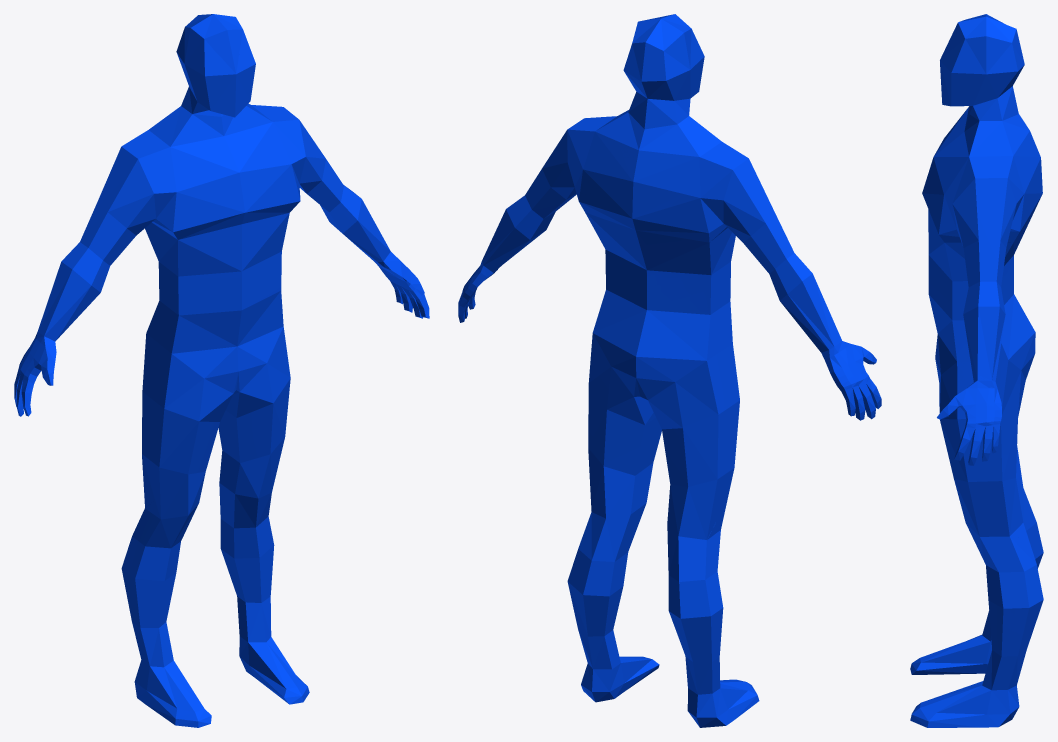
Rendered from Headshot.fbx.
The picture shows the model from 3 angles, left to right: view 1: azimuth 30°, elevation 25°; view 2: azimuth 150°, elevation 25°; view 3: azimuth 270°, elevation 25°; orthographic projection. The views are drawn at different scales.
Visible parts, largest first — view 1: Cube.001, Cube.001_cell.057, Cube.001_cell.015, Cube.001_cell.032, Cube.001_cell.064, Cube.001_cell.025; view 2: Cube.001, Cube.001_cell.057, Cube.001_cell.025, Cube.001_cell.015, Cube.001_cell.032, Cube.001_cell.020, Cube.001_cell.044, Cube.001_cell.064, Cube.001_cell.054, Cube.001_cell.045, Cube.001_cell.052, Cube.001_cell.053 (+9 smaller); view 3: Cube.001, Cube.001_cell.044, Cube.001_cell.057, Cube.001_cell.020, Cube.001_cell.068, Cube.001_cell.054, Cube.001_cell.055, Cube.001_cell.045, Cube.001_cell.053, Cube.001_cell.048, Cube.001_cell.040, Cube.001_cell.037.
Boxes of the visible parts, box(x1,y1,x2,y2) form: Cube.001: box(15, 14, 429, 727); Cube.001_cell.057: box(123, 390, 288, 720); Cube.001_cell.015: box(72, 137, 168, 257); Cube.001_cell.032: box(136, 81, 193, 142); Cube.001_cell.064: box(14, 332, 45, 416); Cube.001_cell.025: box(146, 299, 166, 502); Cube.001: box(463, 14, 876, 725); Cube.001_cell.057: box(578, 313, 759, 727); Cube.001_cell.025: box(645, 314, 737, 538); Cube.001_cell.015: box(649, 139, 800, 271); Cube.001_cell.032: box(631, 96, 716, 223); Cube.001_cell.020: box(510, 116, 614, 219); Cube.001_cell.044: box(567, 333, 613, 645); Cube.001_cell.064: box(776, 282, 881, 420); Cube.001_cell.054: box(581, 116, 631, 219); Cube.001_cell.045: box(616, 70, 662, 179); Cube.001_cell.052: box(641, 233, 735, 274); Cube.001_cell.053: box(595, 231, 645, 318); Cube.001: box(910, 14, 1042, 727); Cube.001_cell.044: box(954, 340, 1039, 674); Cube.001_cell.057: box(915, 298, 1043, 727); Cube.001_cell.020: box(945, 158, 1035, 301); Cube.001_cell.068: box(941, 383, 1001, 464); Cube.001_cell.054: box(968, 140, 1042, 205); Cube.001_cell.055: box(943, 67, 1017, 102); Cube.001_cell.045: box(951, 69, 1039, 156); Cube.001_cell.053: box(952, 276, 1013, 311); Cube.001_cell.048: box(947, 232, 1020, 282); Cube.001_cell.040: box(952, 309, 1021, 341); Cube.001_cell.037: box(953, 325, 1023, 359).
Bounding box in the file's own units: 352 × 557 × 99.44.
